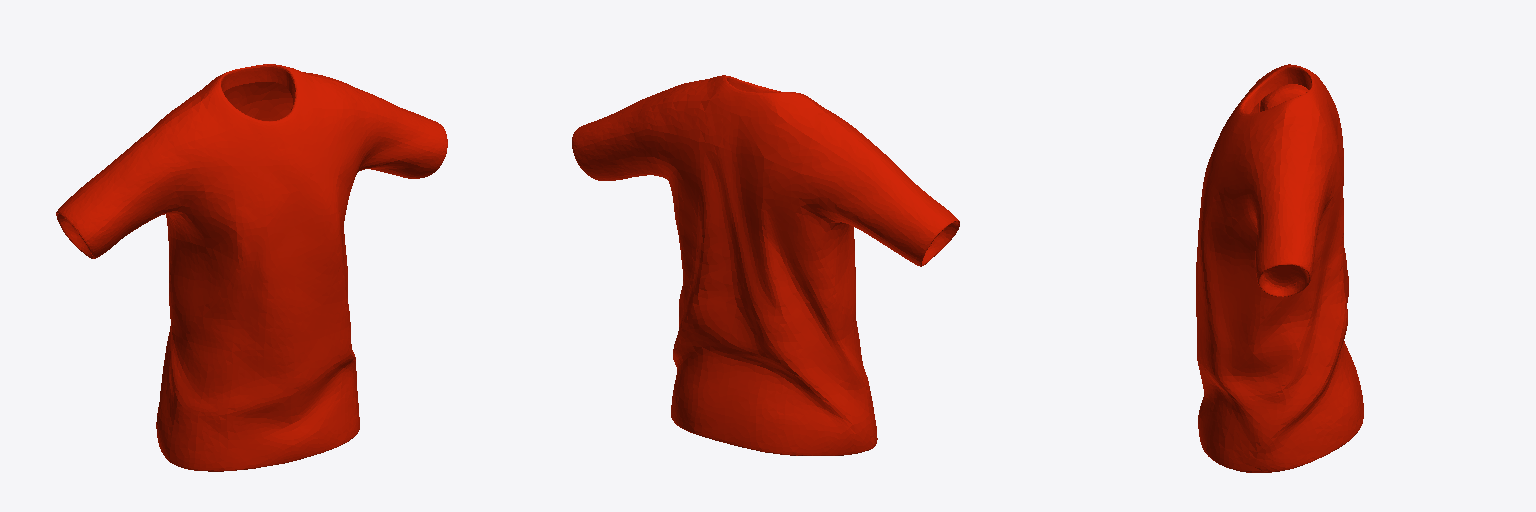
The model's file is shirt_orange.obj.
3 views of the same model, side by side, from view 1: azimuth 30°, elevation 25°; view 2: azimuth 150°, elevation 25°; view 3: azimuth 270°, elevation 25° (orthographic).
Visible parts, largest first — view 1: 22_GOREPORT_1_20_30; view 2: 22_GOREPORT_1_20_30; view 3: 22_GOREPORT_1_20_30.
Part boxes in pixels (x1,y1,x2,y2): 22_GOREPORT_1_20_30: (56, 64, 447, 471); 22_GOREPORT_1_20_30: (572, 75, 959, 455); 22_GOREPORT_1_20_30: (1196, 64, 1363, 472).
Bounding box in the file's own units: 2.01 × 1.81 × 0.7816.